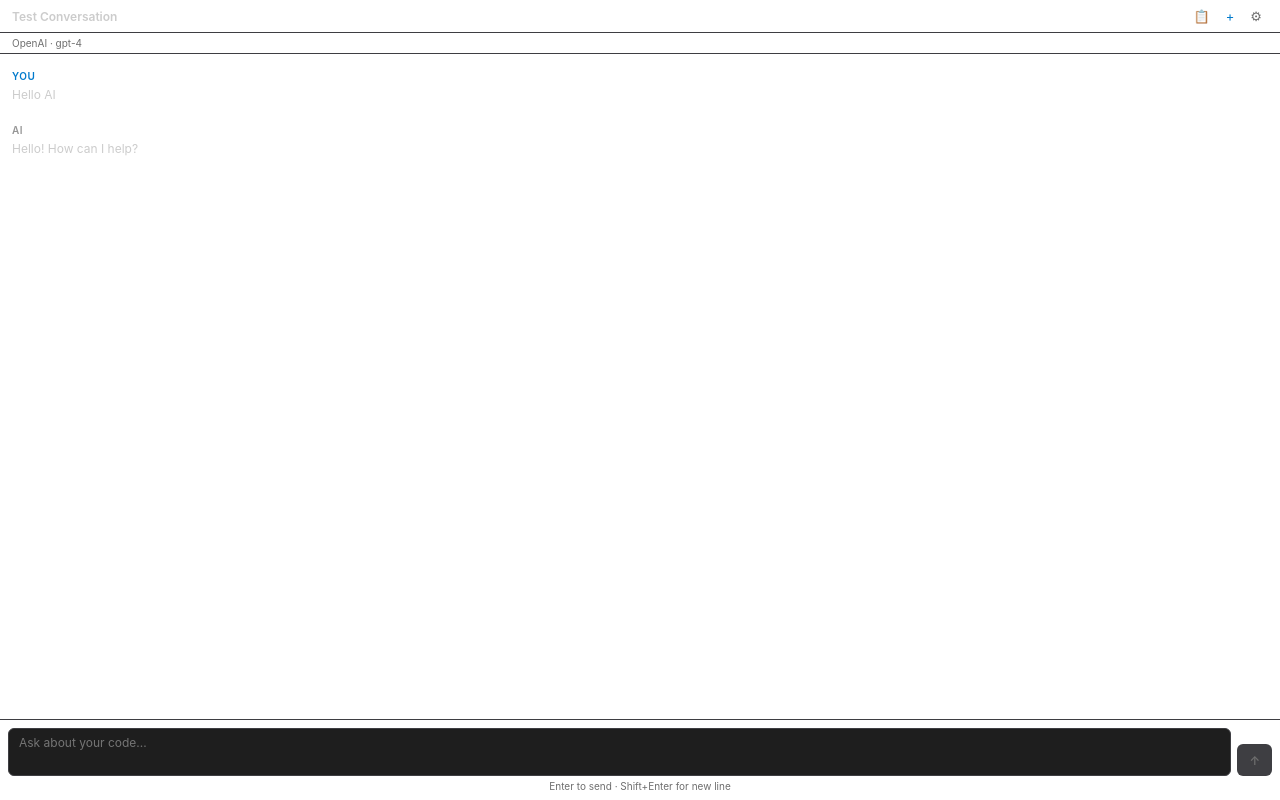
Test: AIChatPanelViewPresenter › toggles conversation list view
Click the button "📋": (1202, 16) [1188,6,1216,26]
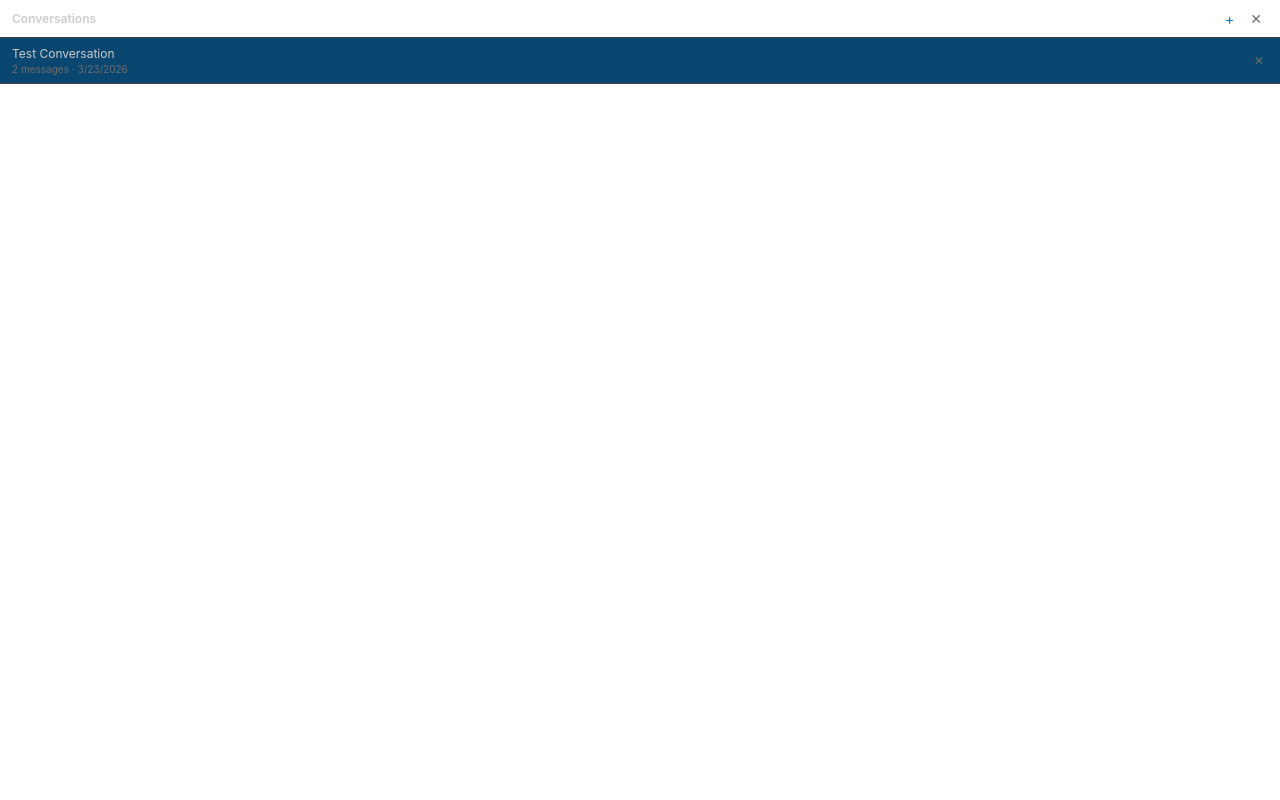
Check: the text "Conversations" is shown, box [12,11,96,26]
